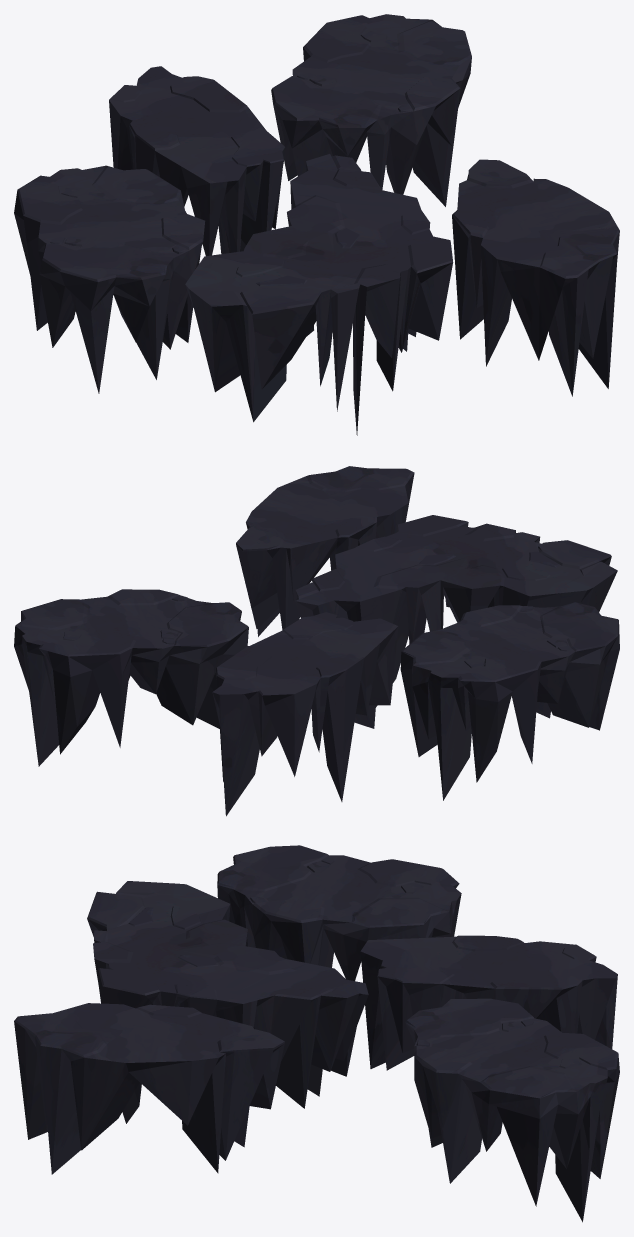
File: RockRoom1.fbx
The picture shows the model from 3 angles, top to bottom: view 1: azimuth 30°, elevation 25°; view 2: azimuth 150°, elevation 25°; view 3: azimuth 270°, elevation 25°; orthographic projection. The views are drawn at different scales.
Parts seen in each view (by area): view 1: RockRoom1; view 2: RockRoom1; view 3: RockRoom1.
Part boxes in pixels (x1=…): RockRoom1: x1=14, y1=14, x2=619, y2=435; RockRoom1: x1=14, y1=466, x2=619, y2=816; RockRoom1: x1=14, y1=845, x2=619, y2=1222.
Size of the model in its own units: 2237 by 631 by 2272.
